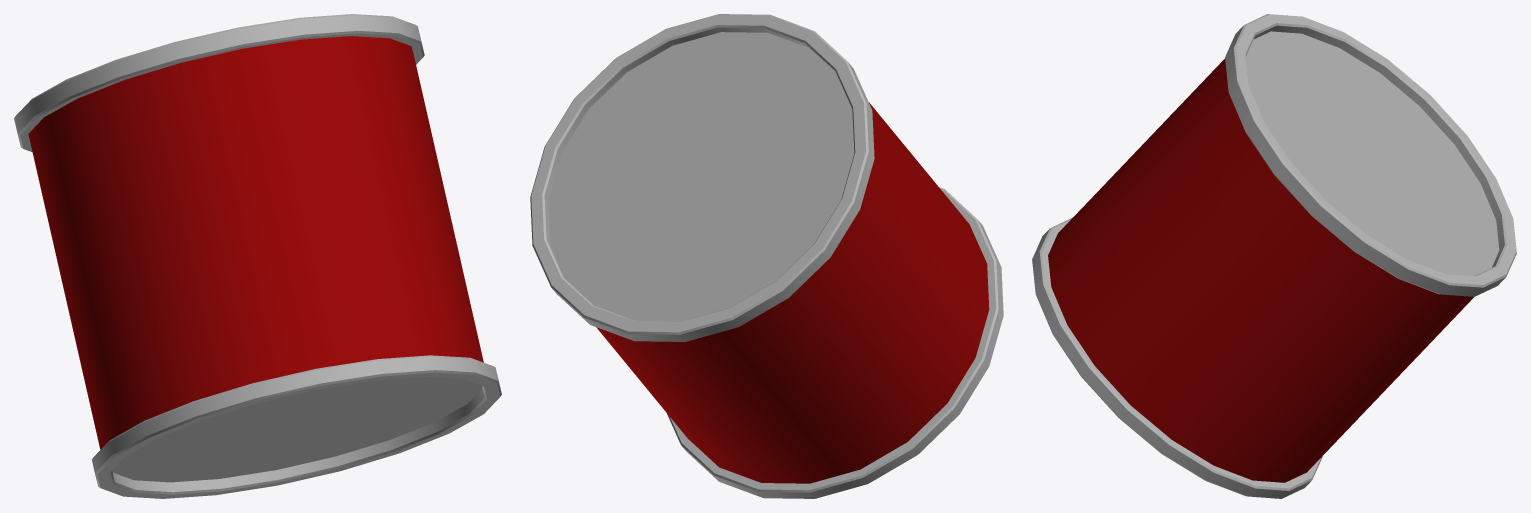
File: lowtom.fbx
3 renders of one model, left to right at view 1: azimuth 30°, elevation 25°; view 2: azimuth 150°, elevation 25°; view 3: azimuth 270°, elevation 25°, orthographic. The views are drawn at different scales.
Parts seen in each view (by area): view 1: low_tom; view 2: low_tom; view 3: low_tom.
Boxes of the visible parts, x1=… form: low_tom: x1=14, y1=14, x2=501, y2=498; low_tom: x1=530, y1=14, x2=1003, y2=498; low_tom: x1=1032, y1=14, x2=1516, y2=498.
Size of the model in its own units: 7.84 by 9.45 by 9.58.
